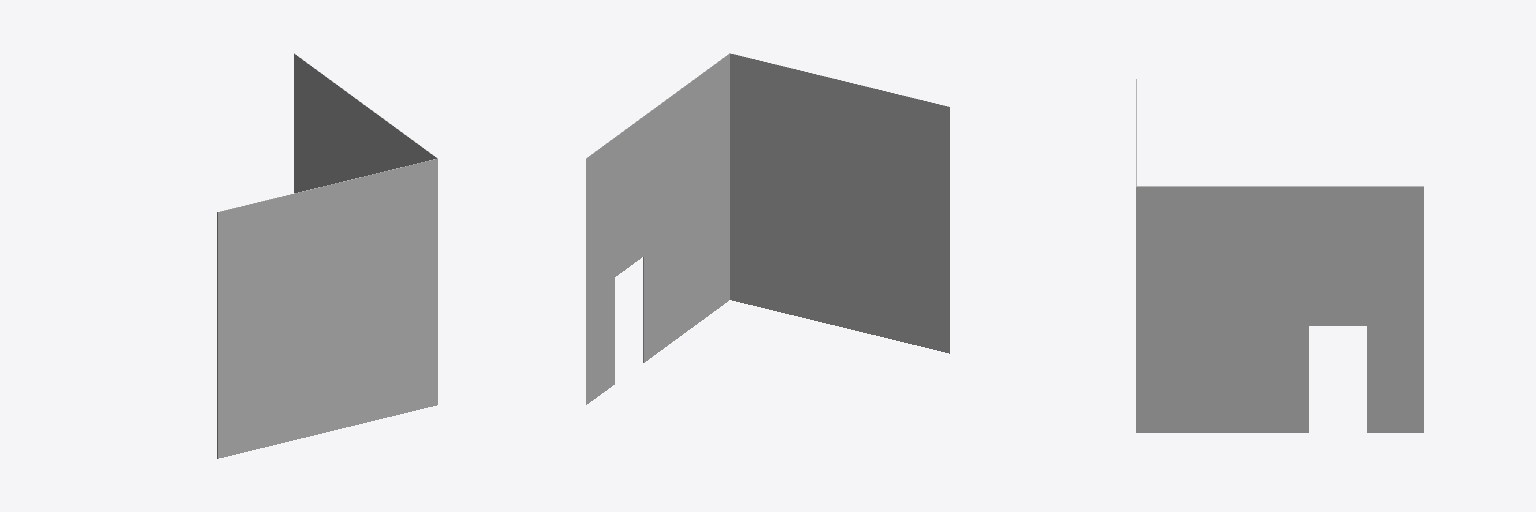
Rendered from vidro02.obj.
3 renders of one model, left to right at view 1: azimuth 30°, elevation 25°; view 2: azimuth 150°, elevation 25°; view 3: azimuth 270°, elevation 25°, orthographic.
Visible parts, largest first — view 1: pilares_1andar_Plane.011; view 2: pilares_1andar_Plane.011; view 3: pilares_1andar_Plane.011.
Boxes of the visible parts, <box> form: pilares_1andar_Plane.011: <box>217,53,437,458</box>; pilares_1andar_Plane.011: <box>586,53,949,404</box>; pilares_1andar_Plane.011: <box>1136,79,1423,432</box>.
Size of the model in its own units: 7.55 by 8.06 by 8.55.